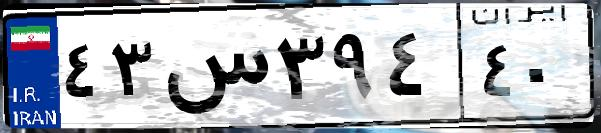0: (525, 38, 570, 115)
3: (270, 28, 330, 110), (110, 28, 158, 98)
4: (385, 28, 445, 110), (57, 26, 110, 100), (475, 38, 525, 113)
9: (330, 28, 385, 110)
س: (158, 20, 270, 120)
